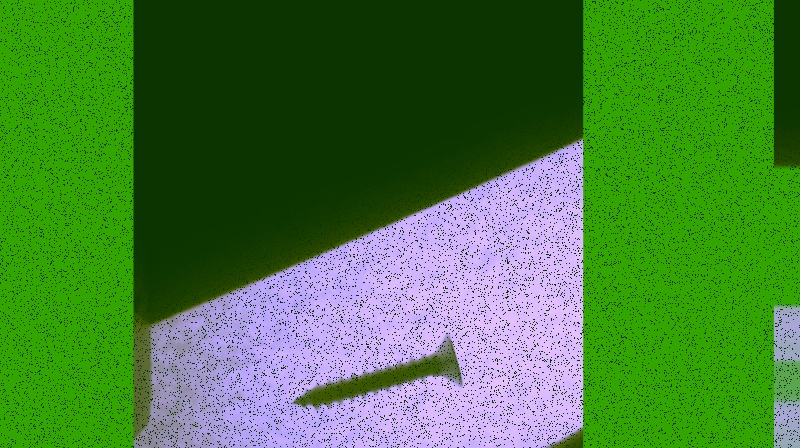S001: (285, 328, 466, 415)
